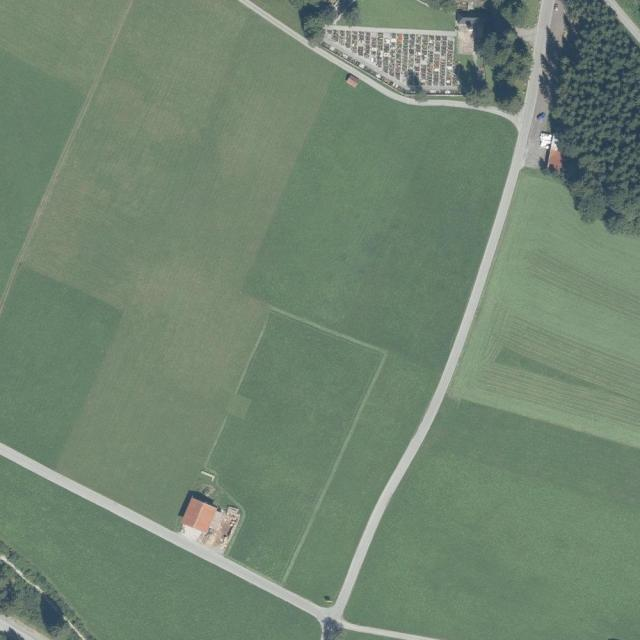agricultural_land: (344, 170, 640, 640), (0, 0, 128, 92)
building: (171, 487, 245, 554)
greenland: (241, 53, 536, 372), (345, 386, 640, 640), (177, 306, 385, 585), (283, 349, 442, 610), (452, 57, 488, 97)
unmetalled_road: (228, 0, 470, 131)
